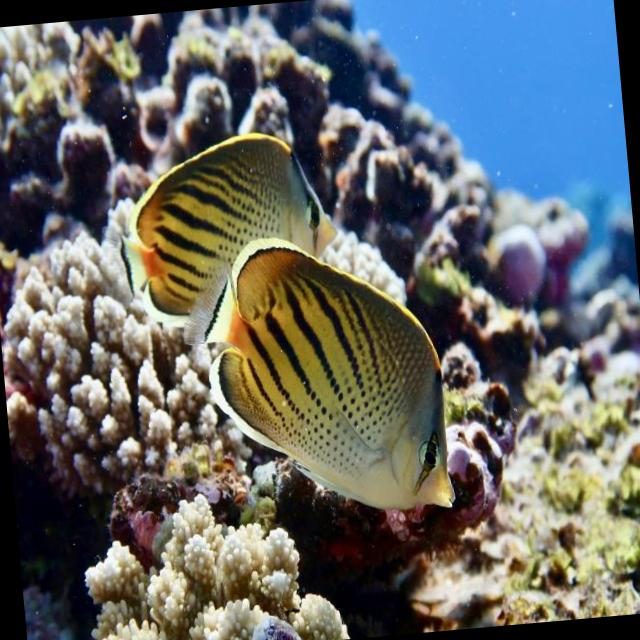ButterflyFish: (204, 229, 458, 540), (112, 131, 345, 314)
